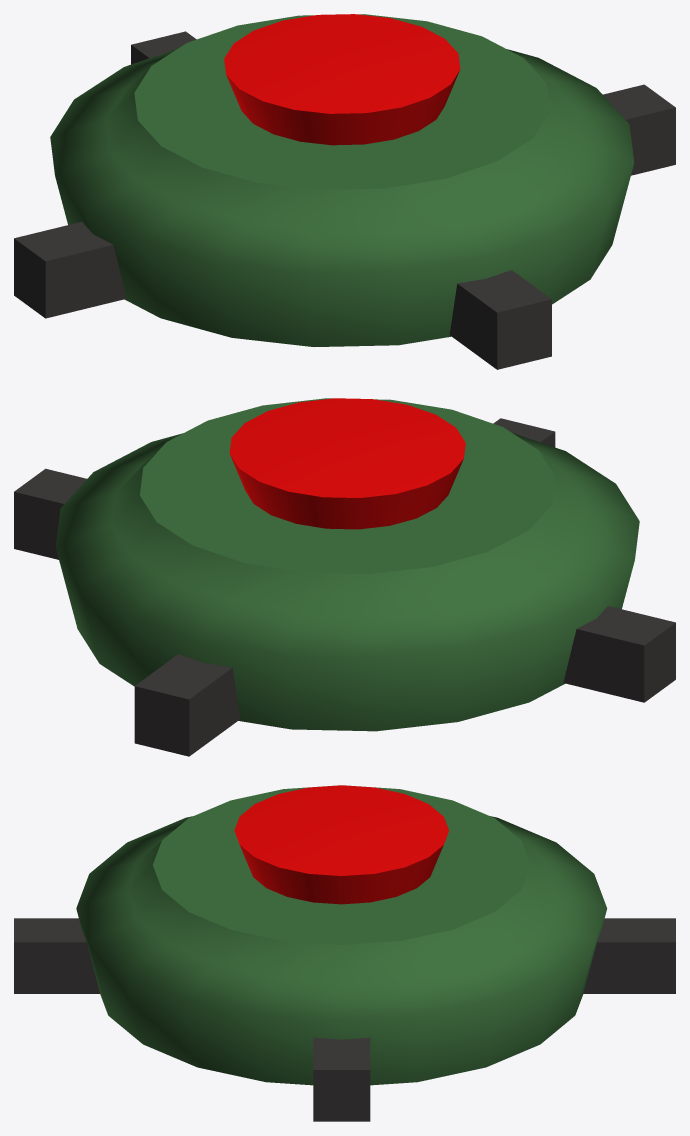
File: Mine.fbx
The picture shows the model from 3 angles, top to bottom: view 1: azimuth 30°, elevation 25°; view 2: azimuth 150°, elevation 25°; view 3: azimuth 270°, elevation 25°; orthographic projection. The views are drawn at different scales.
Parts seen in each view (by area): view 1: pCylinder5; view 2: pCylinder5; view 3: pCylinder5.
Boxes of the visible parts, left/top/right/bottom form: pCylinder5: left=14, top=14, right=675, bottom=369; pCylinder5: left=14, top=398, right=675, bottom=756; pCylinder5: left=14, top=785, right=675, bottom=1121.
Bounding box in the file's own units: 96.91 × 25.7 × 97.47.
